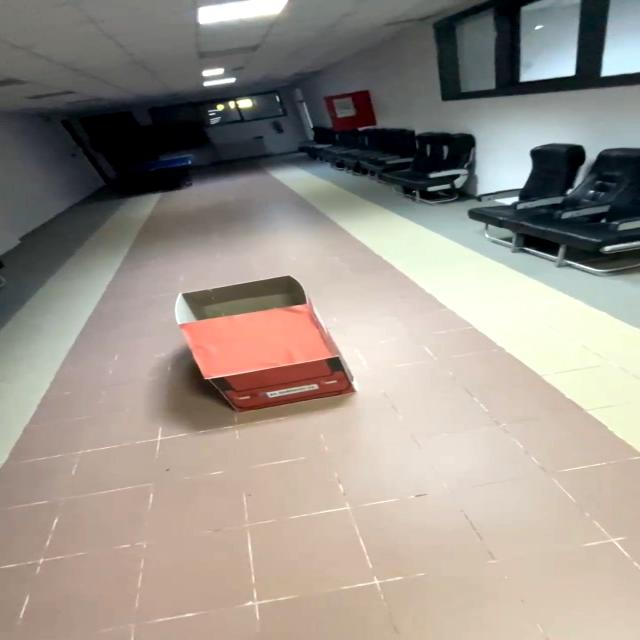red_car: (144, 261, 402, 431)
